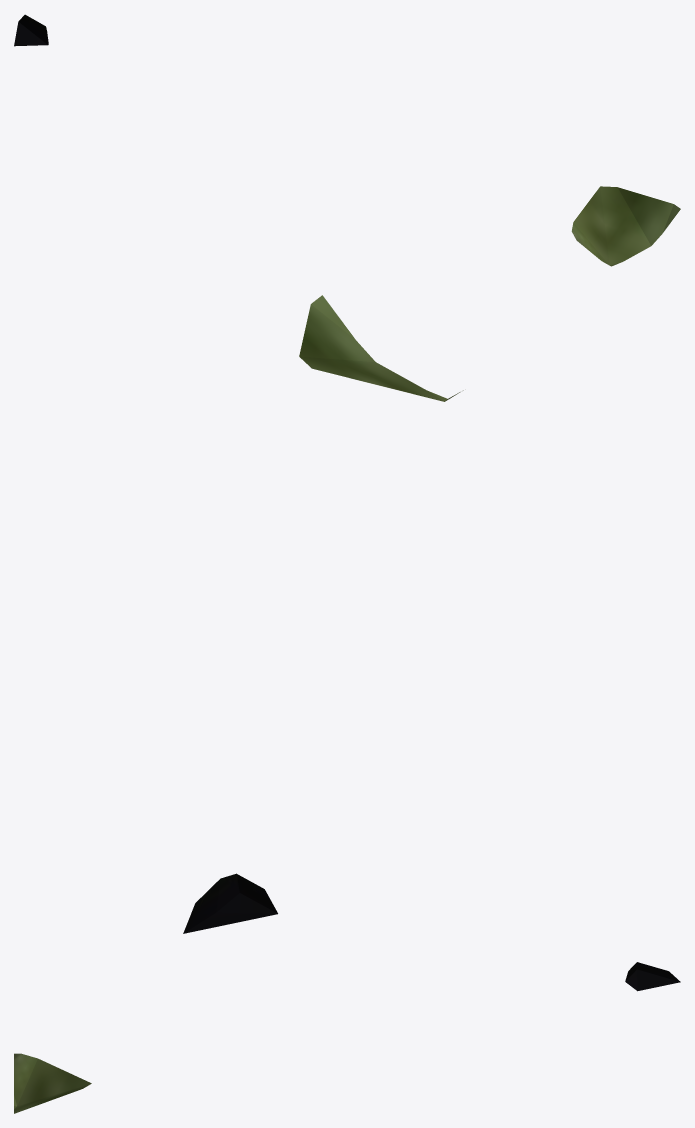
3 views of the same model, one above another, from view 1: azimuth 30°, elevation 25°; view 2: azimuth 150°, elevation 25°; view 3: azimuth 270°, elevation 25° (orthographic). The views are drawn at different scales.
Bounding box in the file's own units: 0.6559 × 0.0801 × 1.31.
Materials: 1 (1 with a texture image).
